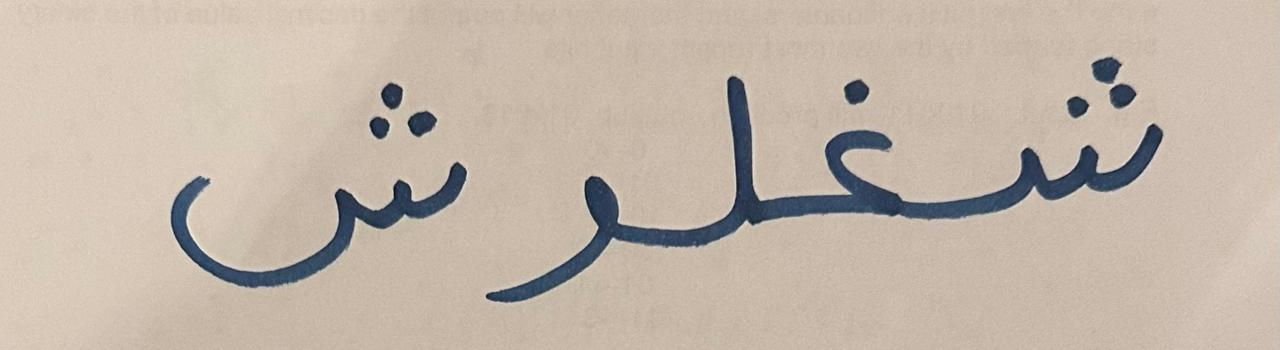ghain: (788, 13, 945, 302)
meem: (677, 51, 784, 307)
tah: (140, 20, 473, 330), (950, 19, 1199, 277)
yeh: (478, 124, 672, 325)
